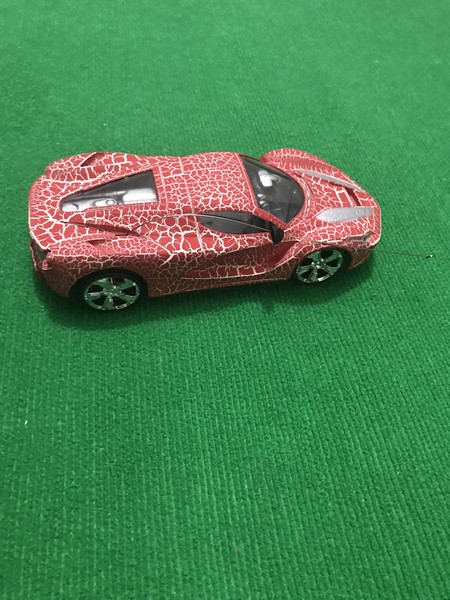RC: (24, 147, 385, 316)
